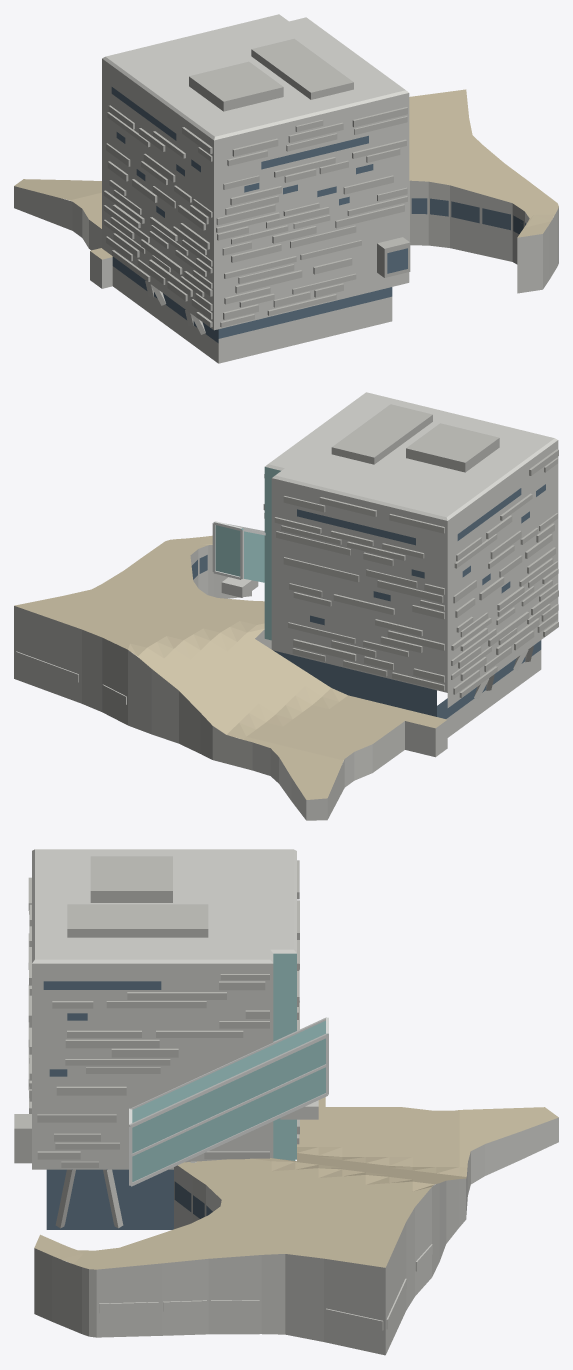
File: dal-perot-museum.glb
3 renders of one model, top to bottom at view 1: azimuth 30°, elevation 25°; view 2: azimuth 150°, elevation 25°; view 3: azimuth 270°, elevation 25°, orthographic. The views are drawn at different scales.
Parts seen in each view (by area): view 1: Perot Museum of Nature and Science; view 2: Perot Museum of Nature and Science; view 3: Perot Museum of Nature and Science.
Part boxes in pixels (bbox=[...]): Perot Museum of Nature and Science: bbox=[14, 14, 558, 363]; Perot Museum of Nature and Science: bbox=[14, 392, 558, 820]; Perot Museum of Nature and Science: bbox=[14, 849, 558, 1355].
Bounding box in the file's own units: 93.96 × 53.9 × 92.75.
